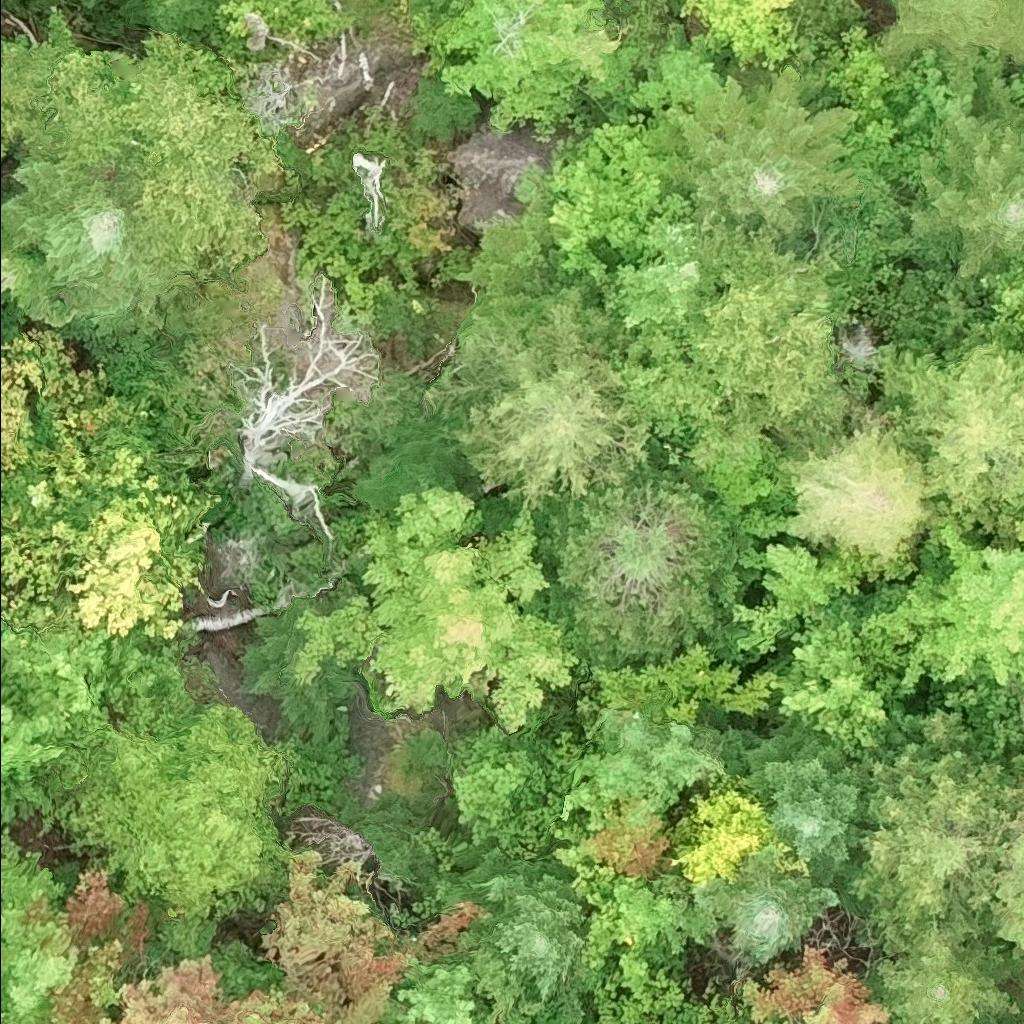crown: (284, 485, 583, 737), (616, 208, 858, 472), (31, 29, 277, 272), (420, 281, 655, 513), (63, 699, 291, 916), (846, 706, 1021, 956), (0, 615, 196, 838), (523, 465, 735, 670), (0, 828, 218, 1023), (254, 850, 483, 1023), (25, 446, 221, 646), (234, 291, 380, 541), (660, 67, 863, 244), (875, 319, 1023, 537), (0, 156, 183, 322), (428, 0, 630, 141), (775, 419, 943, 588), (770, 579, 921, 767), (445, 842, 589, 1023), (548, 112, 701, 276), (558, 703, 745, 832), (446, 700, 595, 861), (908, 74, 1023, 278), (743, 724, 876, 887), (892, 523, 1023, 687), (718, 539, 864, 664), (695, 844, 842, 964), (664, 780, 813, 896), (565, 861, 720, 972), (93, 950, 327, 1023), (594, 640, 776, 731), (572, 212, 702, 336), (866, 926, 1023, 1023), (874, 0, 1023, 93), (627, 20, 724, 159), (682, 430, 794, 540), (740, 945, 892, 1023), (0, 4, 79, 142), (549, 796, 678, 876), (686, 0, 801, 74), (818, 21, 896, 124), (838, 114, 945, 186), (583, 948, 685, 1023), (889, 44, 977, 130), (0, 241, 82, 328), (391, 945, 482, 1023), (988, 777, 1023, 958), (980, 253, 1023, 346), (1005, 68, 1023, 107), (0, 136, 21, 169), (677, 0, 705, 21), (1013, 511, 1023, 547), (0, 1007, 2, 1023)
